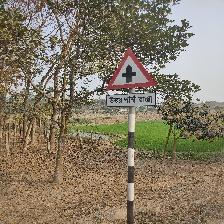Crossroad: (103, 44, 159, 116)
